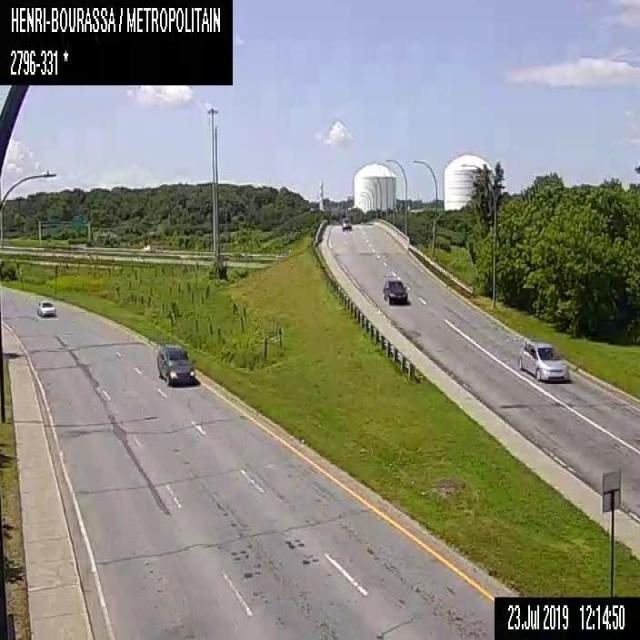vehicle: (516, 339, 568, 381), (156, 344, 194, 387), (383, 277, 406, 304), (36, 298, 56, 314), (340, 218, 351, 230)
